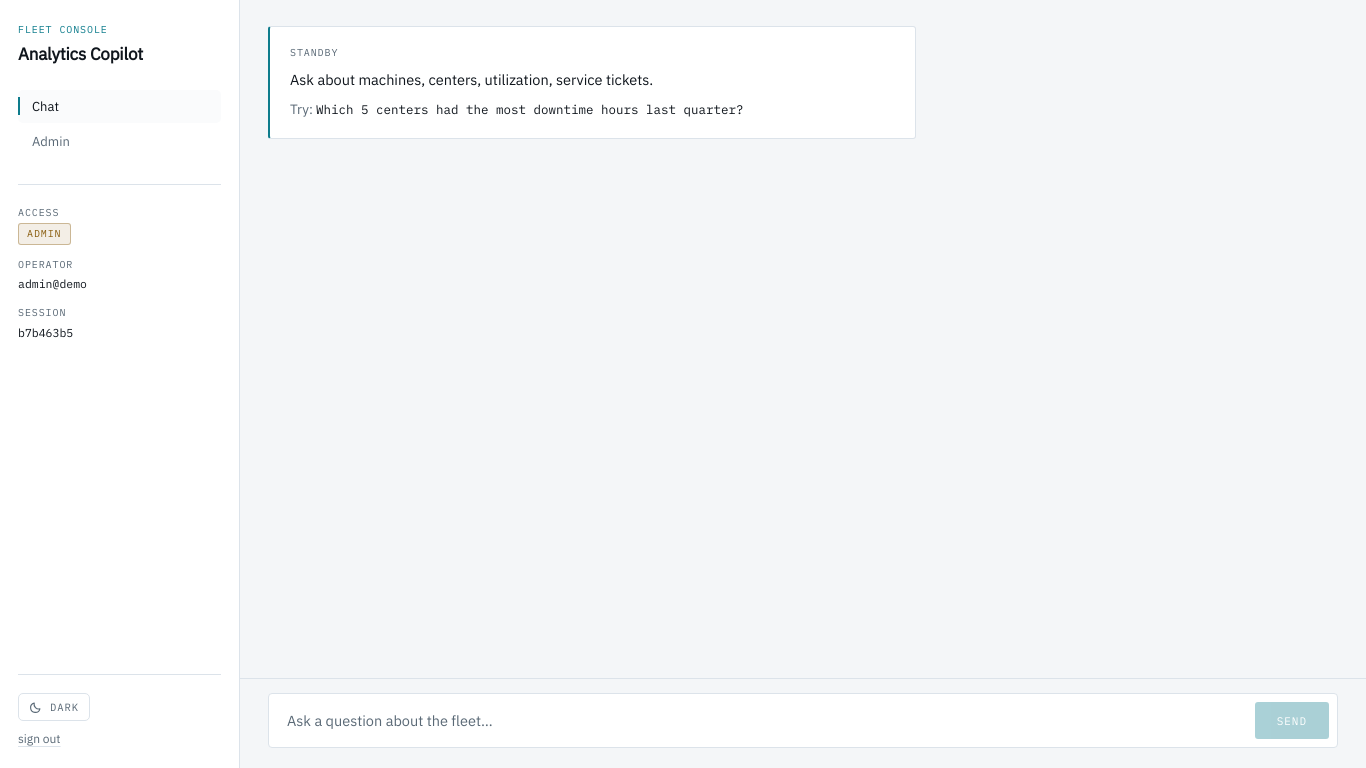
Test case: a 401 while loading admin data logs the user out, not a page-text error
Click the button "Admin".
click(120, 141)  # box [18,125,221,158]
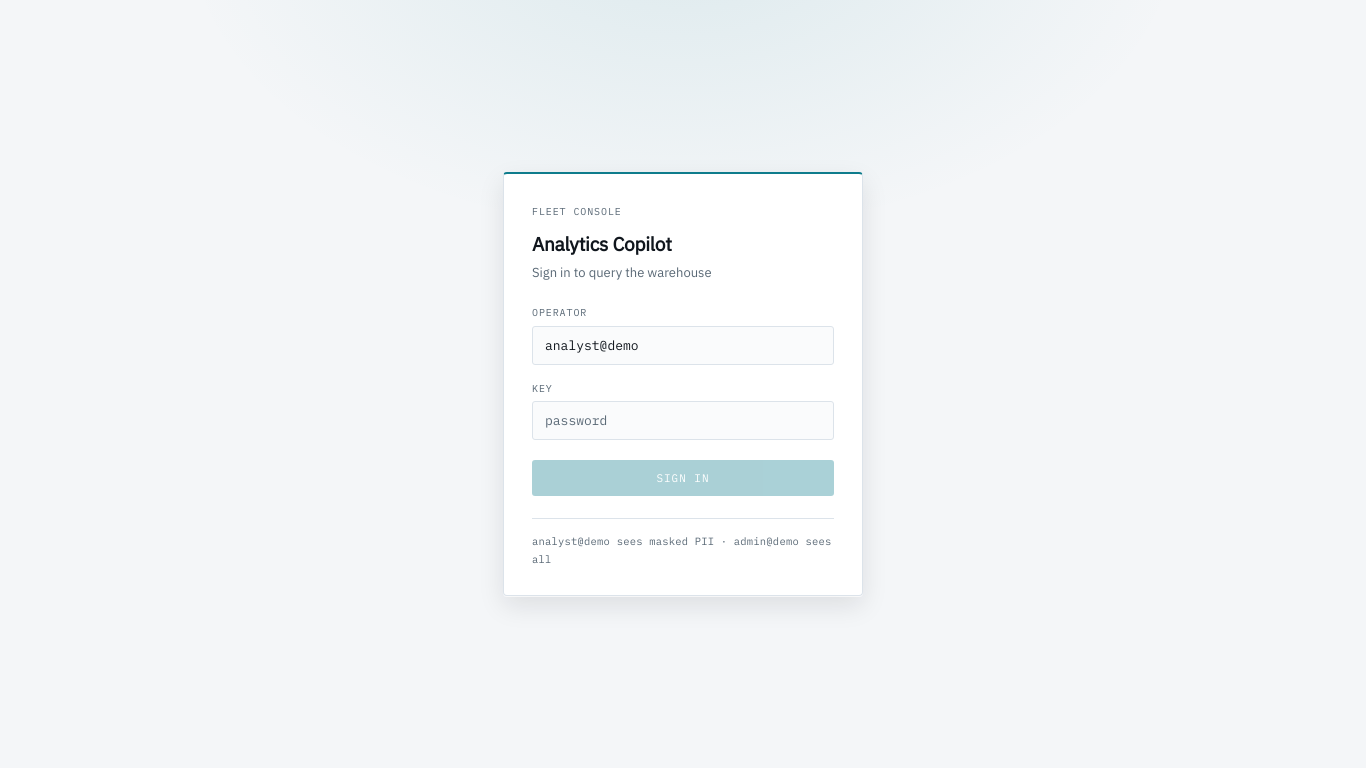
Result: the password field with placeholder "password" is shown at [532,401,834,440]
